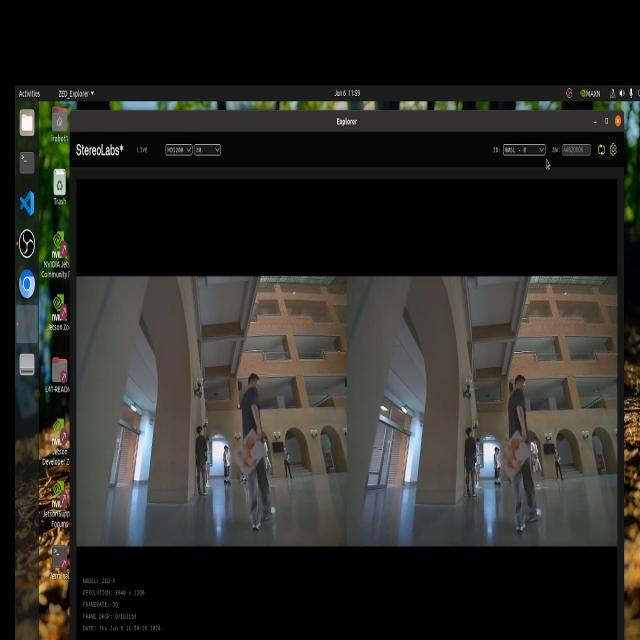red: (236, 430, 262, 472), (505, 436, 525, 482)
